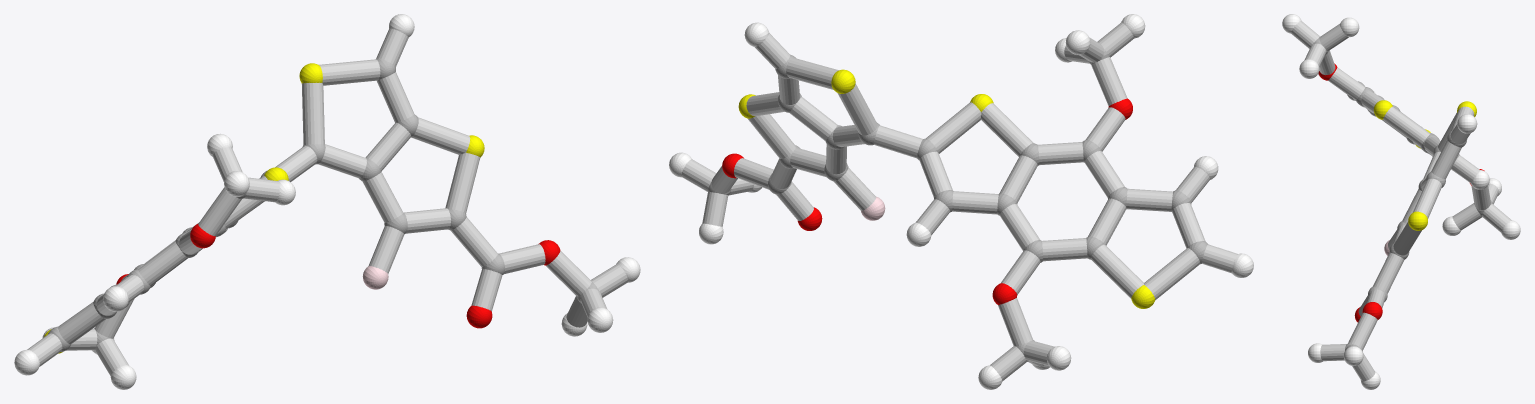
The model's file is color.glb.
3 renders of one model, left to right at view 1: azimuth 30°, elevation 25°; view 2: azimuth 150°, elevation 25°; view 3: azimuth 270°, elevation 25°, orthographic. The views are drawn at different scales.
Parts seen in each view (by area): view 1: grp15205, grp8689, grp1, grp13395, grp7241; view 2: grp15205, grp8689, grp1, grp7241, grp13395; view 3: grp15205, grp8689, grp1, grp7241, grp13395.
Boxes of the visible parts, x1=… form: grp15205: x1=27, y1=28, x2=627, y2=375; grp8689: x1=14, y1=14, x2=640, y2=389; grp1: x1=48, y1=58, x2=598, y2=351; grp13395: x1=116, y1=224, x2=560, y2=328; grp7241: x1=44, y1=63, x2=484, y2=353; grp15205: x1=681, y1=22, x2=1237, y2=380; grp8689: x1=669, y1=14, x2=1253, y2=389; grp1: x1=708, y1=49, x2=1207, y2=361; grp7241: x1=738, y1=69, x2=1155, y2=308; grp13395: x1=722, y1=98, x2=1132, y2=304; grp15205: x1=1291, y1=21, x2=1511, y2=381; grp8689: x1=1282, y1=14, x2=1520, y2=389; grp1: x1=1313, y1=38, x2=1492, y2=351; grp7241: x1=1373, y1=100, x2=1476, y2=230; grp13395: x1=1318, y1=63, x2=1484, y2=322.
Size of the model in its own units: 16.48 by 7.73 by 7.18.
